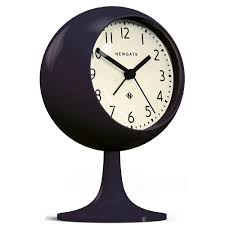alarm_clock: (33, 4, 185, 150)
